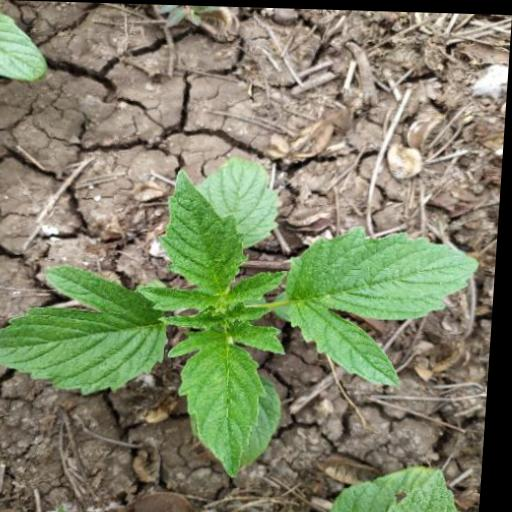crop: (0, 117, 505, 478)
